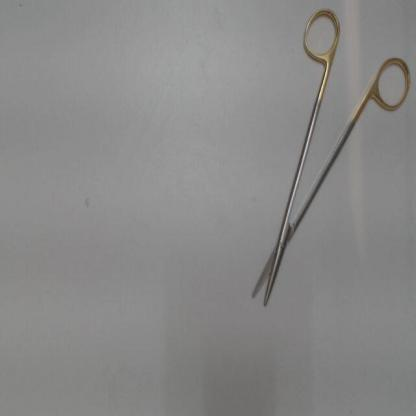7 Metzenbaum Scissors: (248, 4, 413, 316)
